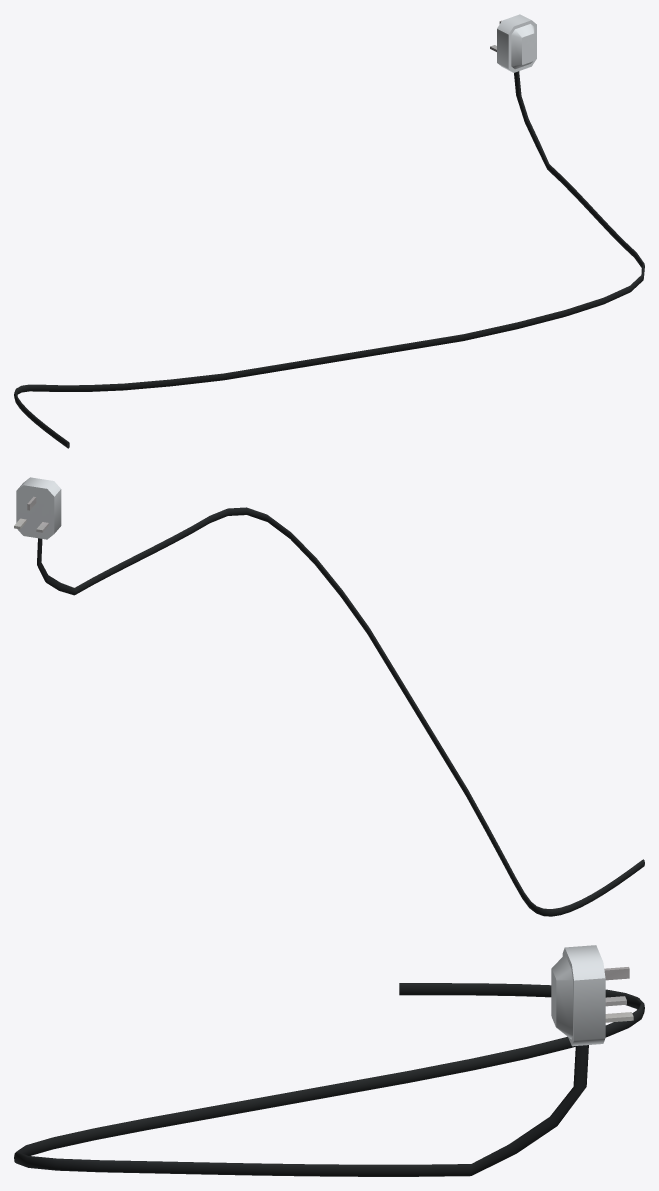
Rendered from ElectricCord.FBX.
The picture shows the model from 3 angles, top to bottom: view 1: azimuth 30°, elevation 25°; view 2: azimuth 150°, elevation 25°; view 3: azimuth 270°, elevation 25°; orthographic projection. The views are drawn at different scales.
Visible parts, largest first — view 1: Cord002; view 2: Cord002; view 3: Cord002.
Boxes of the visible parts, bbox=[...] form: Cord002: bbox=[14, 14, 644, 448]; Cord002: bbox=[14, 477, 644, 916]; Cord002: bbox=[14, 945, 644, 1176].
Size of the model in its own units: 39.3 by 19.33 by 23.5.
